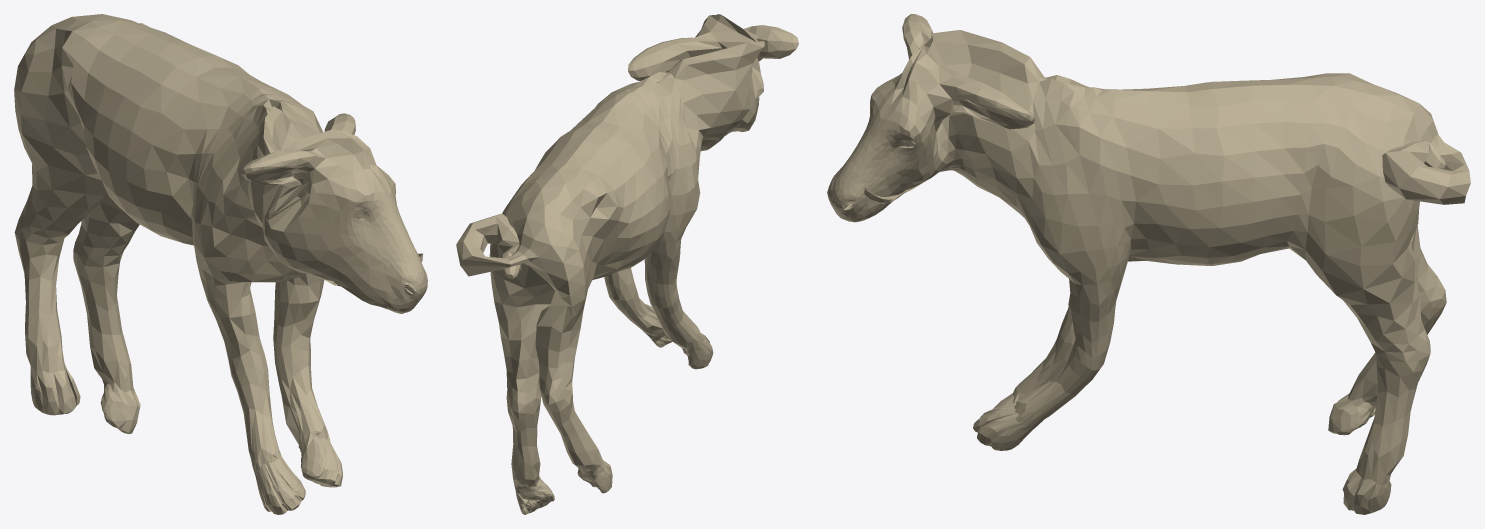
The picture shows the model from 3 angles, left to right: view 1: azimuth 30°, elevation 25°; view 2: azimuth 150°, elevation 25°; view 3: azimuth 270°, elevation 25°; orthographic projection. The views are drawn at different scales.
Visible parts, largest first — view 1: world; view 2: world; view 3: world.
Part boxes in pixels (x1,y1,x2,y2): world: (14, 14, 427, 514); world: (456, 14, 798, 514); world: (827, 14, 1470, 514).
Size of the model in its own units: 0.5272 by 1.33 by 1.69.
